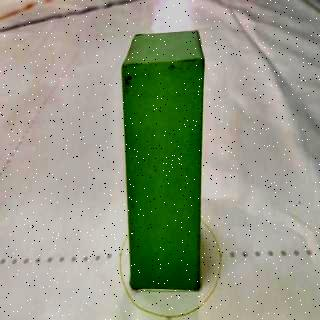greenbox: (122, 30, 205, 292)
